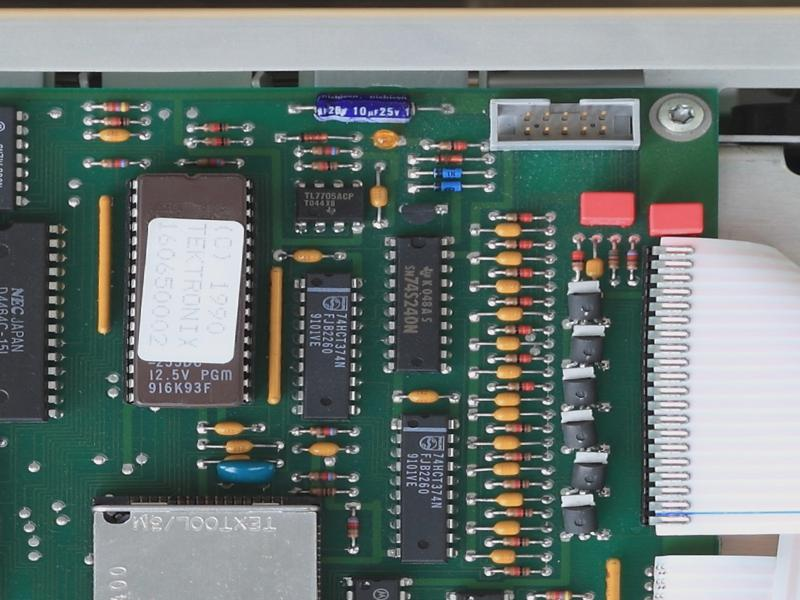Capacitor: (308, 91, 422, 126)
Diode: (295, 128, 330, 145), (431, 153, 468, 165)
Resistor: (96, 112, 136, 128), (432, 137, 472, 152), (192, 156, 230, 171), (98, 99, 133, 114), (96, 157, 131, 172), (305, 470, 340, 485), (308, 159, 342, 174), (199, 120, 235, 134), (199, 135, 235, 149), (501, 267, 537, 281), (503, 505, 536, 520), (502, 449, 534, 464), (500, 536, 533, 550), (308, 144, 343, 157), (501, 352, 535, 365), (542, 587, 576, 600), (502, 238, 535, 251), (605, 247, 622, 272), (504, 210, 534, 224), (500, 324, 535, 336), (307, 425, 342, 437), (501, 566, 533, 579), (503, 296, 536, 308), (571, 247, 585, 275), (345, 516, 360, 542), (625, 247, 640, 273), (505, 382, 537, 394), (500, 480, 534, 491), (503, 423, 536, 434), (307, 487, 340, 497)
